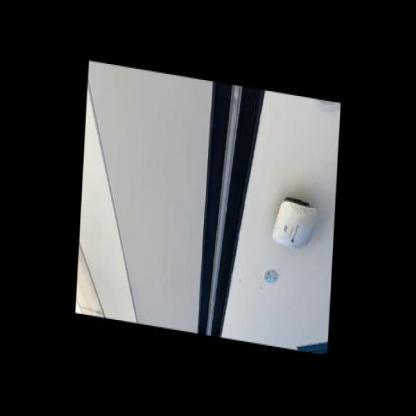light_off: (202, 84, 245, 339)
